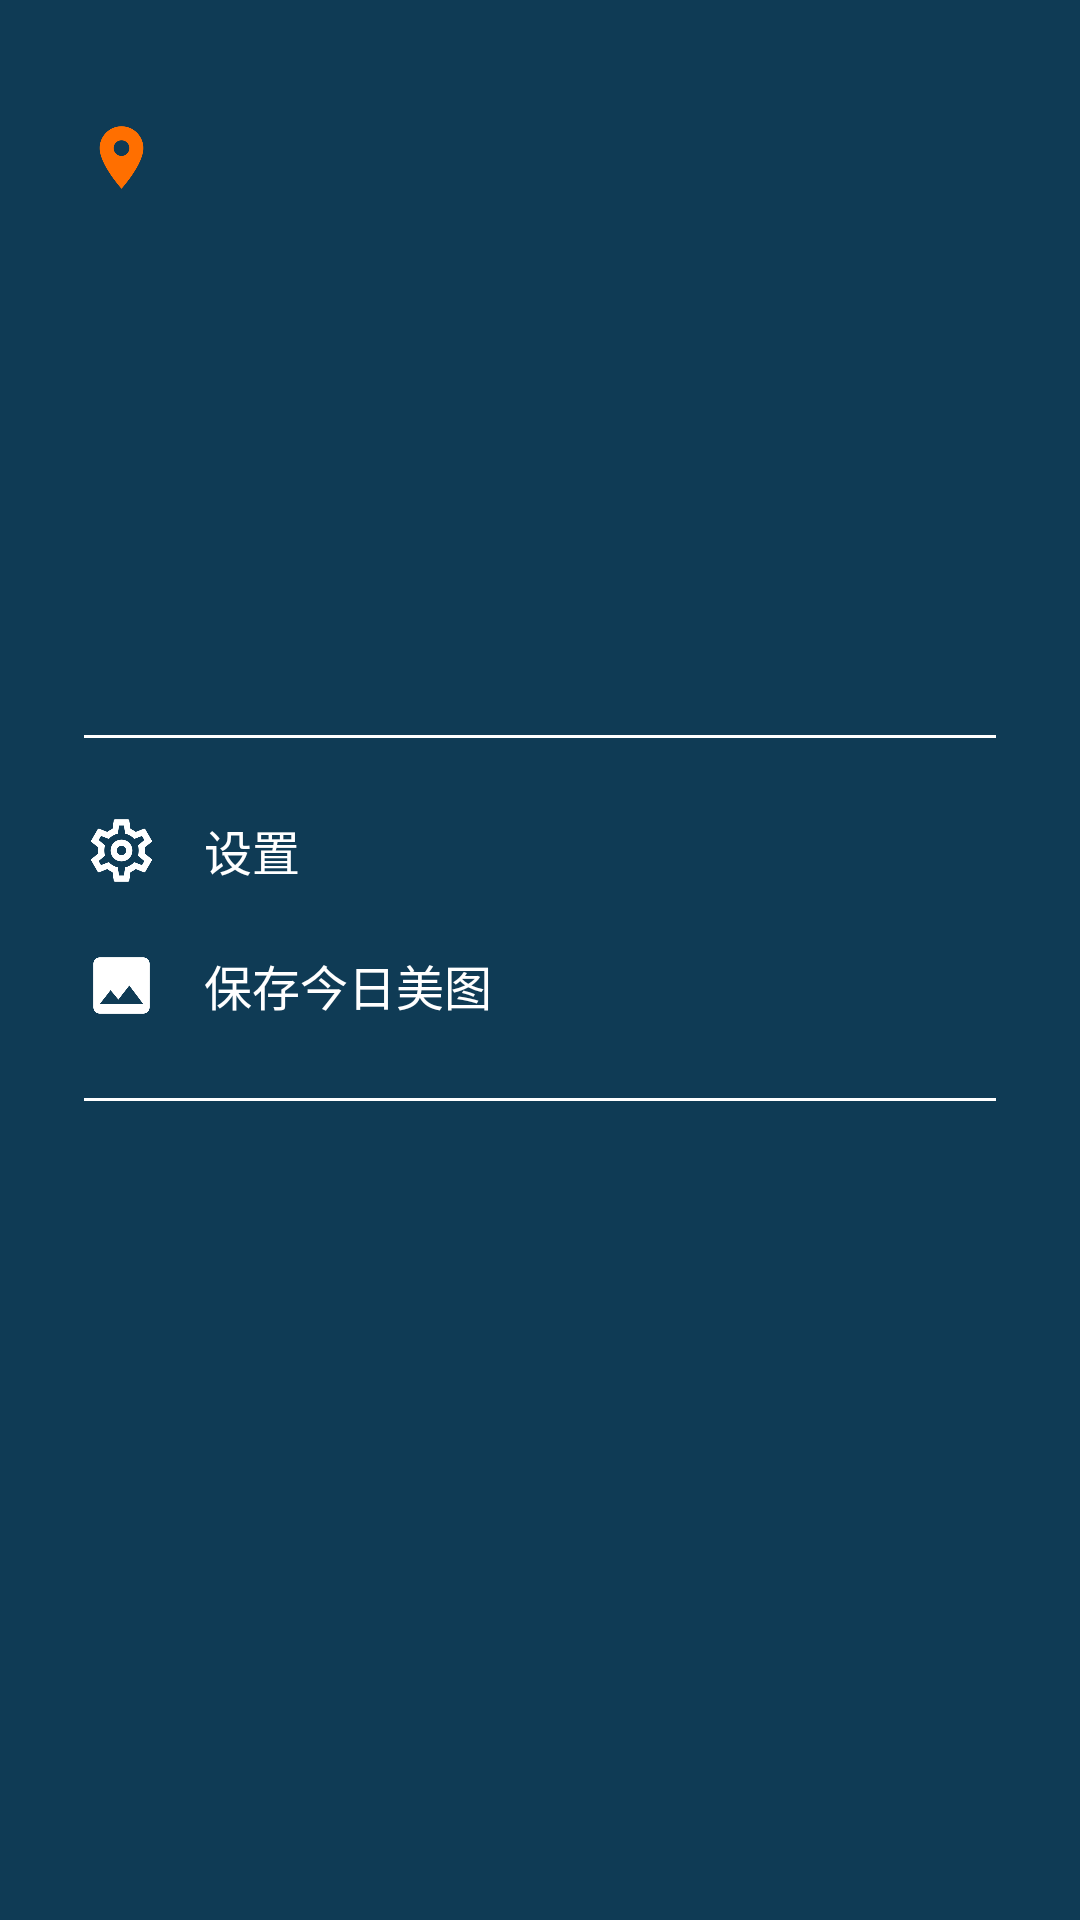

Icons on this 1080px x 1920px Android screen, each with the point to tap as (x,y):
location current: (121,157)
settings: (121,850)
